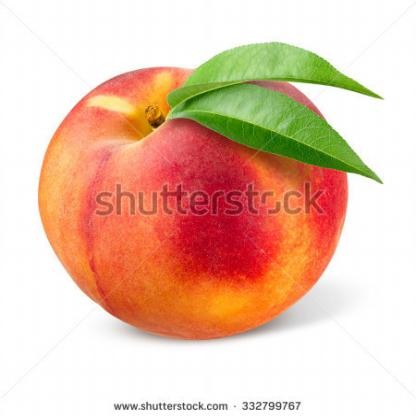Peach leaf: (164, 81, 394, 194), (164, 37, 384, 109)
